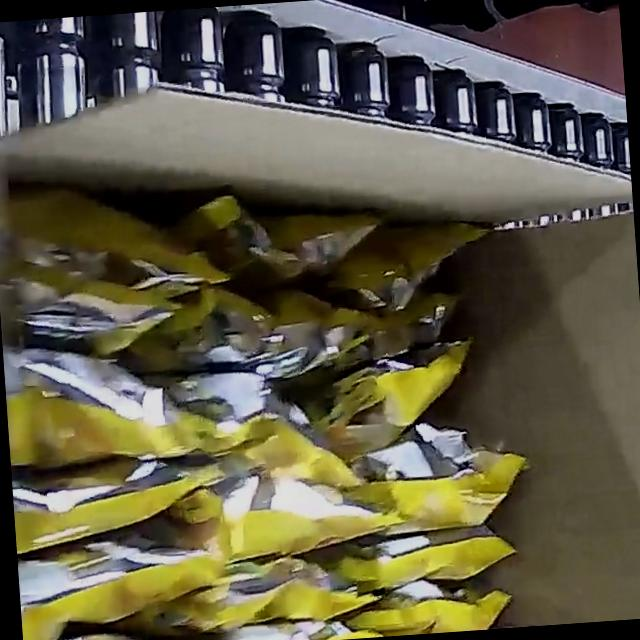salted: (0, 151, 543, 640)
